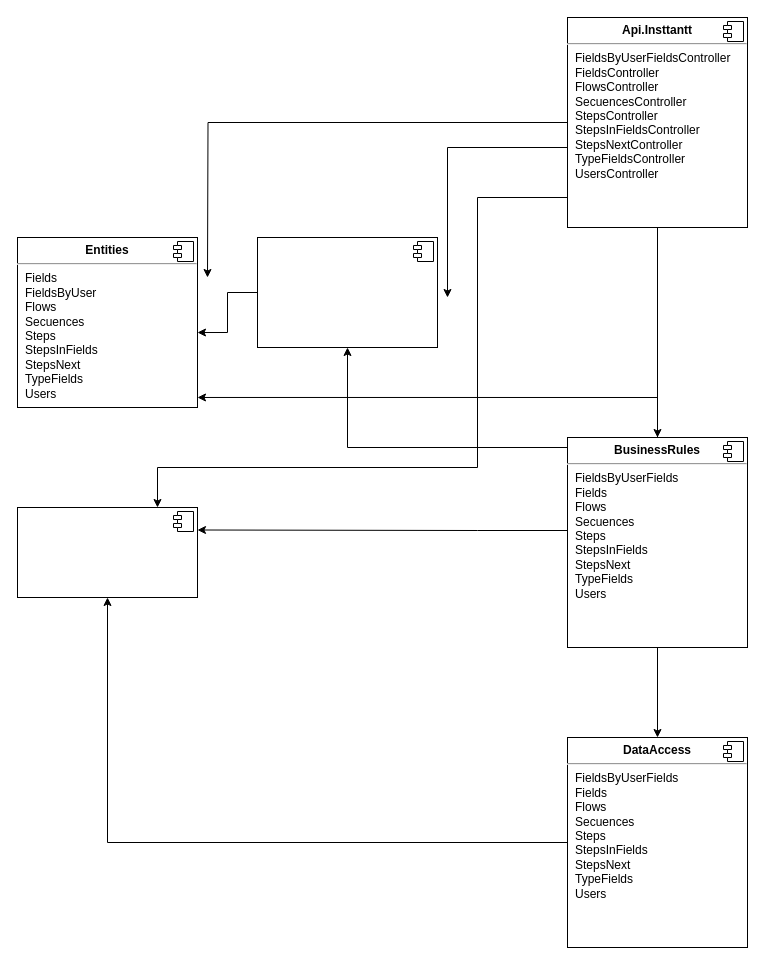
The diagram is 765 pixels wide and 965 high, and some of its shapes have lost their labels. Each missing label, with the centre of its shape:
"Dto FieldGeneral FieldsValue FieldsValueByUserFlow FlowGeneral StepsGeneral" goes at point (347, 292).
"Utilities + Attribute1: Type + Attribute2: Type" goes at point (107, 552).
